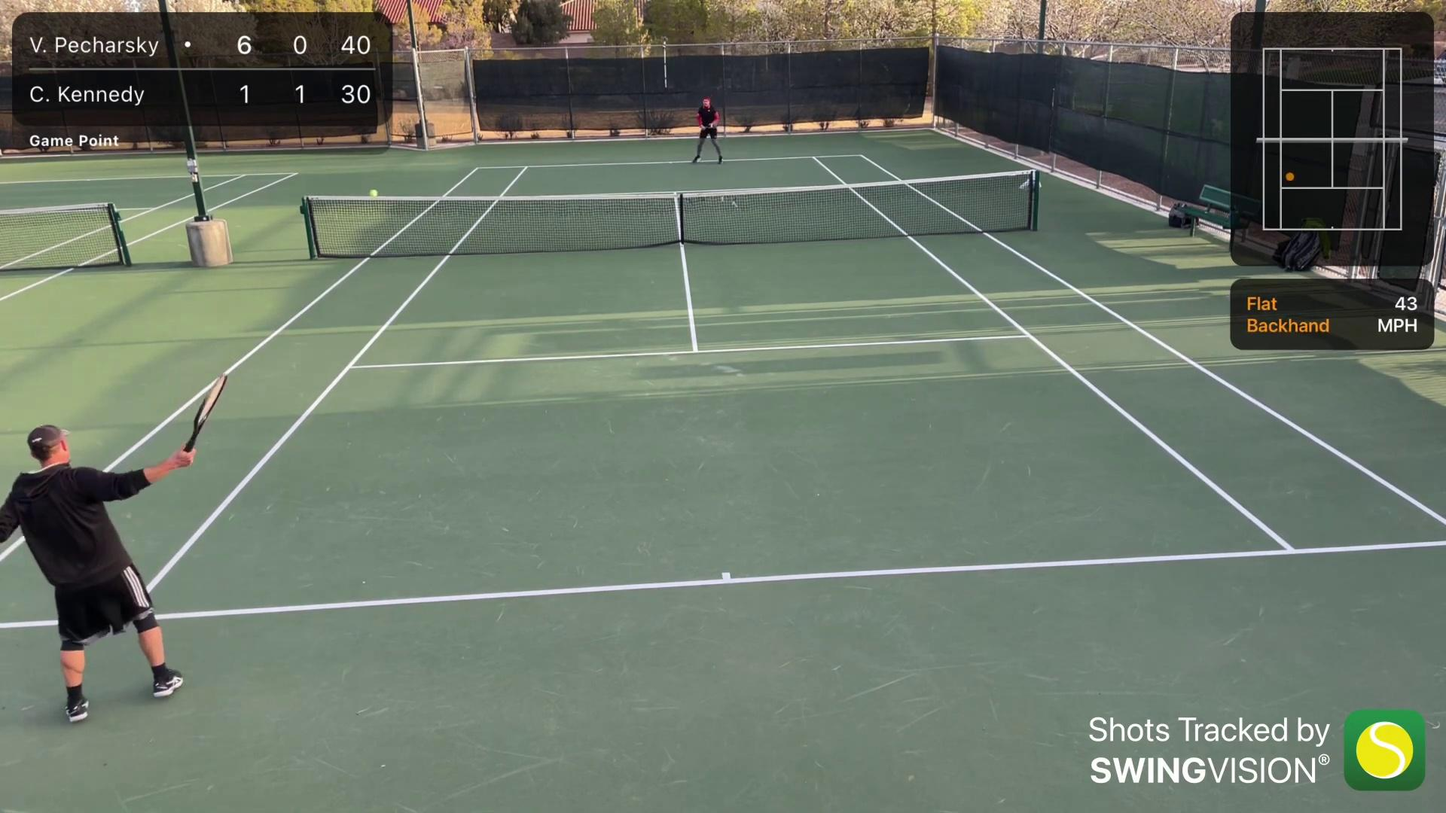ball: (366, 188, 380, 198)
